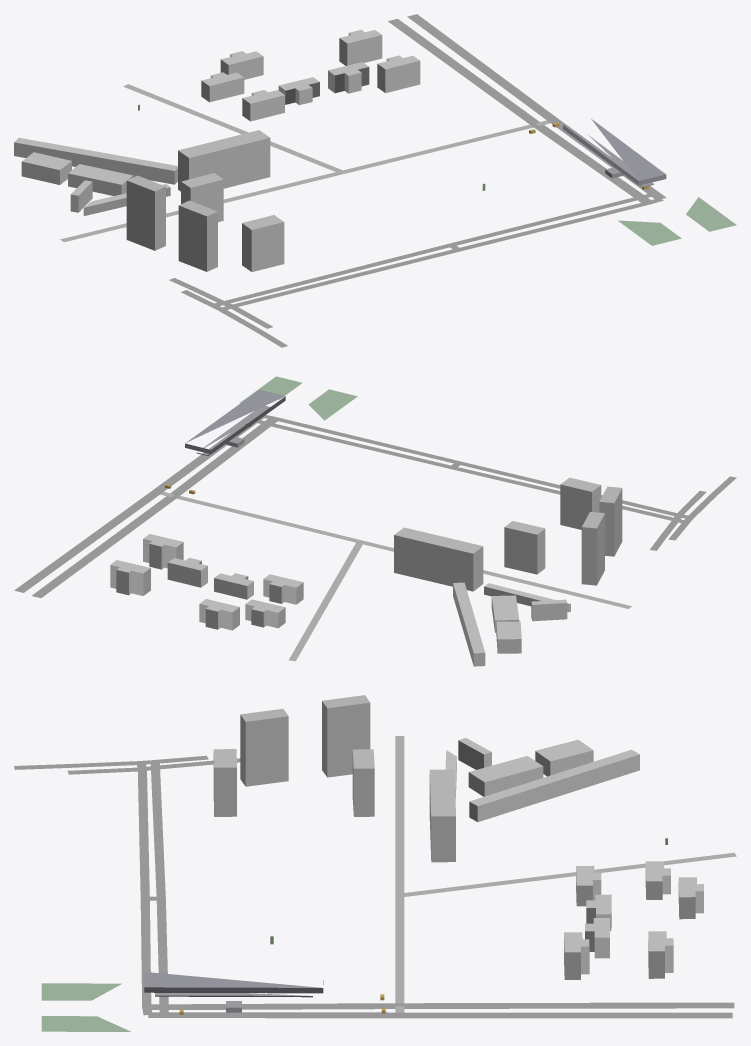
3 renders of one model, top to bottom at view 1: azimuth 30°, elevation 25°; view 2: azimuth 150°, elevation 25°; view 3: azimuth 270°, elevation 25°, orthographic. The views are drawn at different scales.
Bounding box in the file's own units: 534 × 58.39 × 550.
